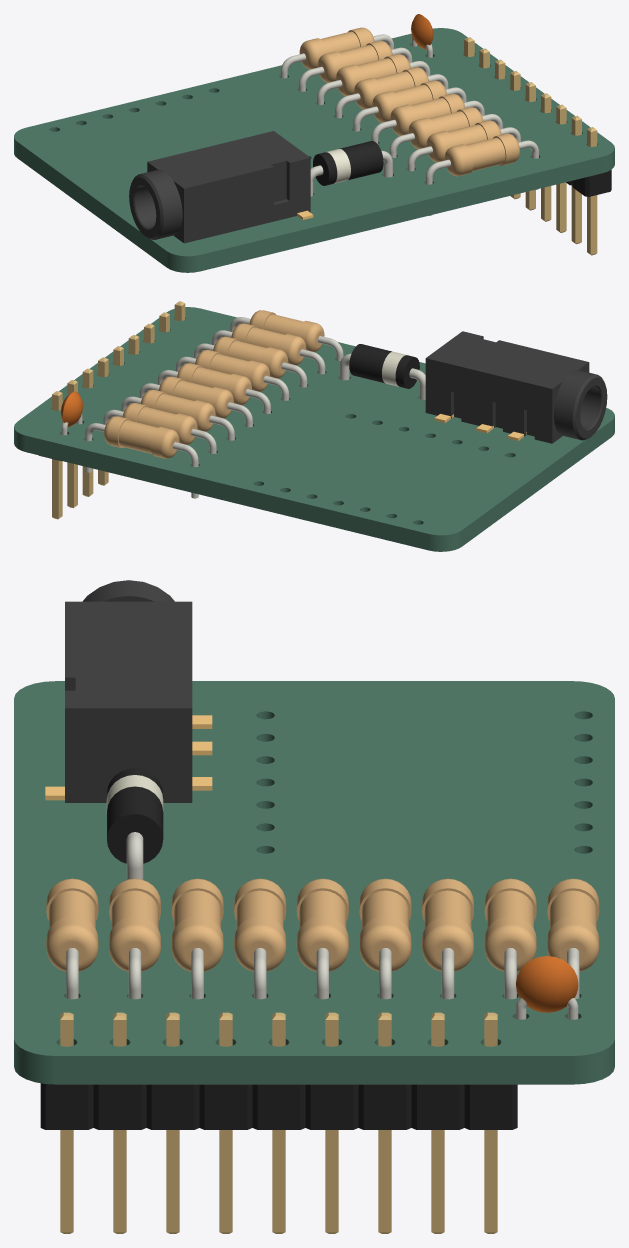
File: C5VRX_JACK_DIY_V3.glb
3 views of the same model, one above another, from view 1: azimuth 30°, elevation 25°; view 2: azimuth 150°, elevation 25°; view 3: azimuth 270°, elevation 25° (orthographic). The views are drawn at different scales.
Parts seen in each view (by area): view 1: =>[0:1:1:13], =>[0:1:1:3] (×9), NAUO1, =>[0:1:1:10], =>[0:1:1:12], =>[0:1:1:8]; view 2: =>[0:1:1:13], =>[0:1:1:3] (×9), NAUO1, =>[0:1:1:10], =>[0:1:1:12], =>[0:1:1:8]; view 3: =>[0:1:1:13], =>[0:1:1:3] (×9), =>[0:1:1:10], NAUO1, =>[0:1:1:12], =>[0:1:1:8].
Boxes of the visible parts, x1,y1,x2,y2 form: =>[0:1:1:13]: (14,28,614,272); =>[0:1:1:3] (×9): (280,27,538,215); NAUO1: (129,131,313,243); =>[0:1:1:10]: (464,37,611,255); =>[0:1:1:12]: (310,141,392,196); =>[0:1:1:8]: (411,14,433,57); =>[0:1:1:13]: (14,307,614,551); =>[0:1:1:3] (×9): (85,310,343,498); NAUO1: (425,331,607,443); =>[0:1:1:10]: (39,301,185,519); =>[0:1:1:12]: (340,344,425,399); =>[0:1:1:8]: (60,391,82,435); =>[0:1:1:13]: (14,681,614,1084); =>[0:1:1:3] (×9): (46,878,599,999); =>[0:1:1:10]: (40,1012,517,1233); NAUO1: (45,580,212,802); =>[0:1:1:12]: (106,768,163,879); =>[0:1:1:8]: (516,956,578,1019).
Bounding box in the file's own units: 0.0426 × 0.0154 × 0.0288.
